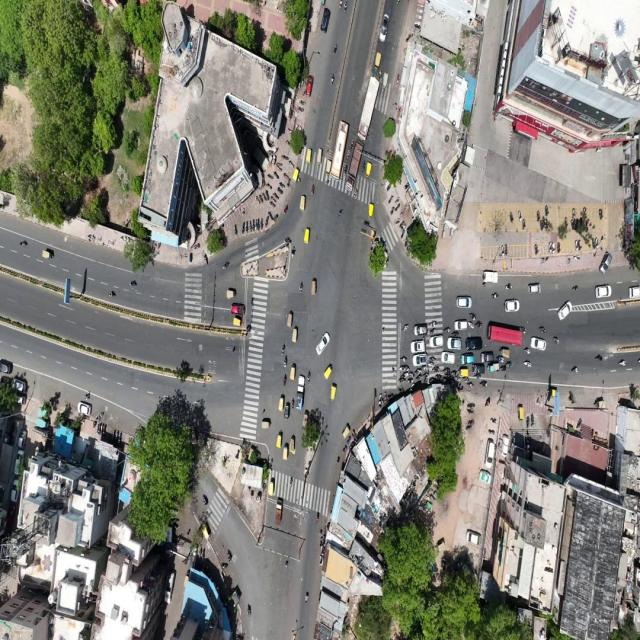3W: (329, 381, 338, 405), (299, 190, 307, 216), (201, 522, 211, 542), (303, 225, 312, 246), (373, 51, 382, 72), (323, 362, 334, 379), (516, 404, 525, 424), (367, 200, 375, 222), (305, 145, 313, 167), (366, 159, 373, 184), (225, 287, 238, 300), (260, 417, 272, 431), (282, 440, 289, 464), (486, 362, 500, 374), (316, 144, 323, 167), (310, 276, 318, 296), (292, 167, 302, 183), (42, 248, 55, 260), (268, 475, 275, 497), (286, 309, 294, 328), (383, 71, 389, 95), (230, 317, 243, 328), (499, 346, 510, 359), (289, 433, 296, 453), (292, 325, 299, 344), (276, 428, 282, 450), (284, 400, 290, 422), (290, 361, 296, 382), (278, 393, 284, 413)
Bus: (485, 321, 524, 344)
Cars: (316, 330, 332, 356), (484, 437, 496, 470), (593, 281, 613, 300), (557, 299, 573, 322), (599, 250, 613, 276), (379, 12, 390, 44), (466, 527, 482, 547), (464, 335, 484, 351), (504, 296, 521, 314), (76, 400, 93, 418), (482, 268, 499, 286), (320, 7, 331, 34), (455, 294, 473, 310), (10, 377, 28, 393), (304, 73, 315, 99), (530, 334, 547, 350), (527, 280, 542, 296), (428, 334, 445, 348), (439, 352, 456, 366), (230, 302, 246, 316), (412, 322, 428, 336), (410, 339, 426, 353), (447, 337, 463, 351), (411, 354, 428, 366), (453, 318, 468, 331), (470, 363, 486, 375), (459, 353, 475, 364), (480, 351, 494, 362)
LCV: (297, 372, 306, 410), (275, 493, 284, 528)
M2W: (570, 361, 580, 377), (304, 587, 310, 608), (552, 334, 561, 348), (330, 70, 336, 90), (226, 547, 234, 562), (570, 282, 580, 294), (401, 322, 411, 334), (307, 368, 313, 387), (298, 279, 304, 297), (200, 494, 209, 506), (484, 396, 493, 408), (362, 157, 366, 183), (282, 203, 290, 216), (246, 602, 252, 619), (289, 472, 294, 492), (594, 352, 604, 362), (617, 358, 627, 368), (490, 292, 500, 302), (537, 324, 547, 334), (523, 358, 532, 369), (465, 400, 476, 409), (222, 260, 230, 272), (332, 42, 338, 58), (310, 182, 316, 198), (391, 364, 397, 380), (337, 206, 344, 219), (290, 245, 296, 260), (19, 238, 28, 248), (117, 431, 123, 446), (487, 426, 496, 436), (428, 319, 438, 328), (315, 509, 320, 526), (203, 252, 209, 266), (343, 1, 349, 15), (520, 323, 527, 335), (129, 279, 138, 288), (282, 372, 287, 388), (504, 282, 514, 290), (443, 324, 451, 334), (469, 311, 477, 321), (467, 320, 475, 330), (479, 380, 489, 388), (280, 343, 286, 356), (508, 211, 514, 224), (345, 148, 351, 161), (264, 215, 270, 228), (465, 407, 476, 414), (111, 428, 116, 443), (241, 219, 246, 234), (283, 356, 289, 368), (108, 289, 116, 298), (544, 204, 550, 216), (523, 347, 531, 356), (399, 355, 408, 363), (432, 366, 441, 374), (254, 195, 260, 207), (266, 172, 274, 181), (272, 193, 280, 202), (394, 204, 402, 213), (353, 188, 358, 202), (490, 414, 497, 424), (350, 135, 355, 149), (466, 418, 476, 425), (274, 170, 281, 180), (338, 0, 343, 13), (517, 210, 522, 223), (265, 189, 270, 202), (599, 206, 603, 222), (248, 219, 252, 235), (281, 152, 289, 160), (265, 182, 273, 190), (467, 382, 474, 391), (506, 360, 513, 369), (220, 563, 230, 569), (534, 243, 539, 255), (474, 322, 484, 328), (259, 217, 264, 229), (277, 186, 283, 196), (252, 216, 255, 235), (234, 223, 238, 237), (536, 208, 540, 222), (504, 242, 508, 256), (344, 163, 348, 177), (429, 328, 437, 335), (496, 355, 504, 362), (442, 367, 450, 374), (500, 365, 506, 374), (270, 200, 276, 209), (522, 218, 526, 231), (575, 238, 579, 251), (500, 244, 504, 257), (548, 241, 552, 254), (378, 67, 382, 80), (389, 193, 394, 203), (390, 205, 395, 215), (291, 396, 294, 412), (557, 241, 561, 253), (399, 364, 405, 372), (394, 218, 400, 226), (395, 196, 401, 204), (98, 422, 101, 436), (579, 238, 582, 252), (430, 355, 436, 362), (416, 368, 422, 375), (399, 377, 405, 384), (406, 365, 411, 373), (430, 361, 436, 367), (406, 379, 415, 383), (325, 179, 330, 186), (424, 371, 429, 378), (258, 216, 260, 233)
Truck: (357, 75, 381, 141), (330, 115, 349, 182), (346, 139, 359, 196)
